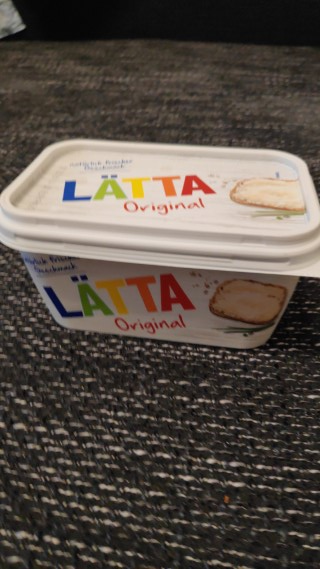laetta: (1, 138, 320, 348)
